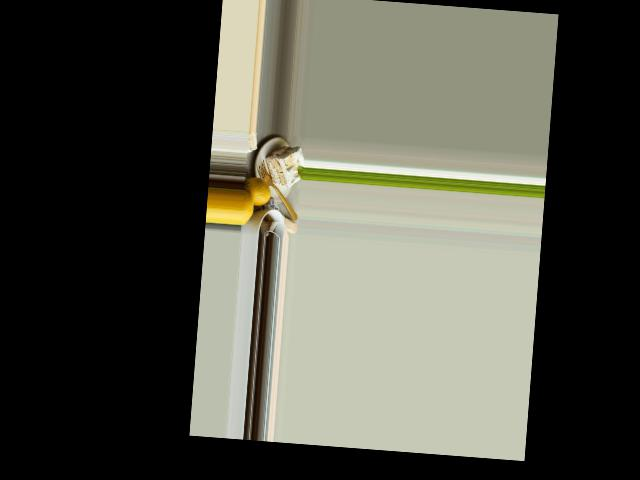lemon: (240, 189, 255, 227)
